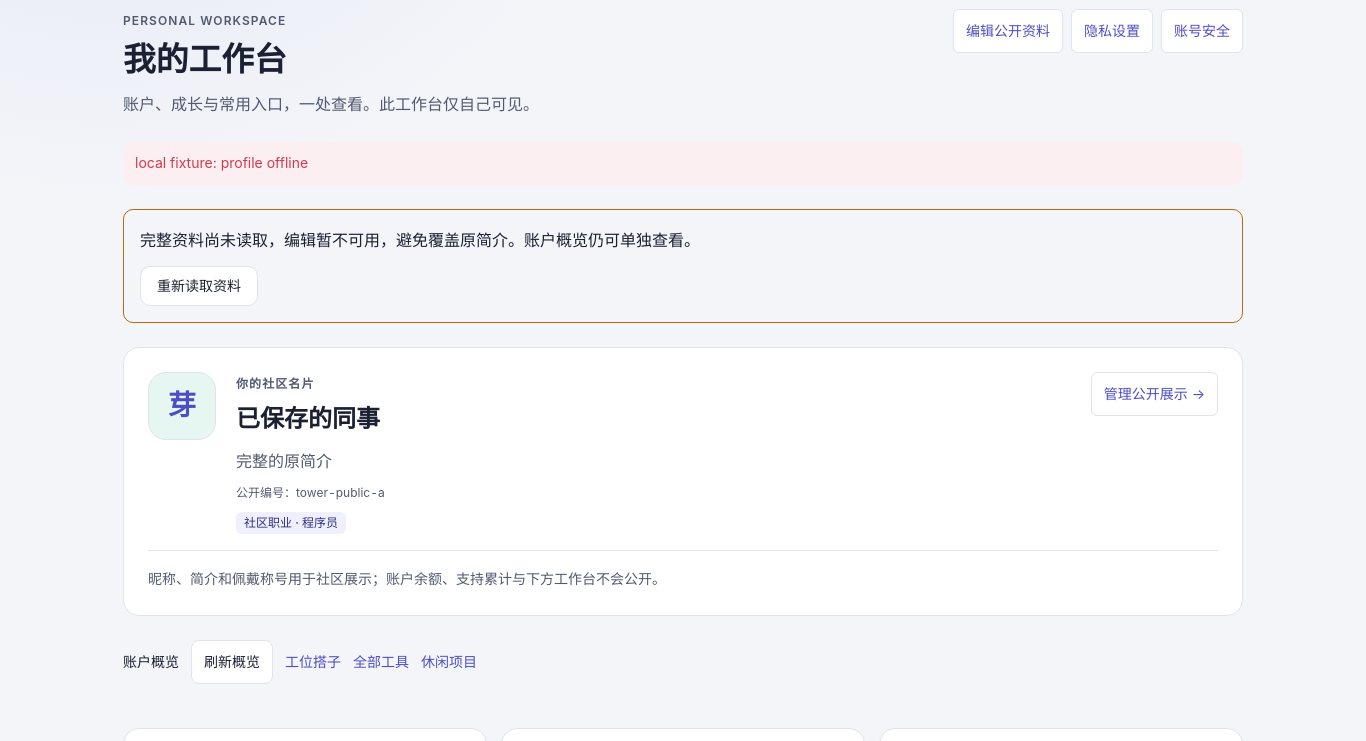
private profile overview and explicit editing › prevents saving until the full profile loads and enables a safe retry instead of clearing the original bio
The image size is (1366, 741).
expect the button "重新读取资料" is shown: met, box [140,266,258,306]
Step 1. Click the button "编辑公开资料" → (1008, 31), box [953,9,1063,53]
(page scrolled)
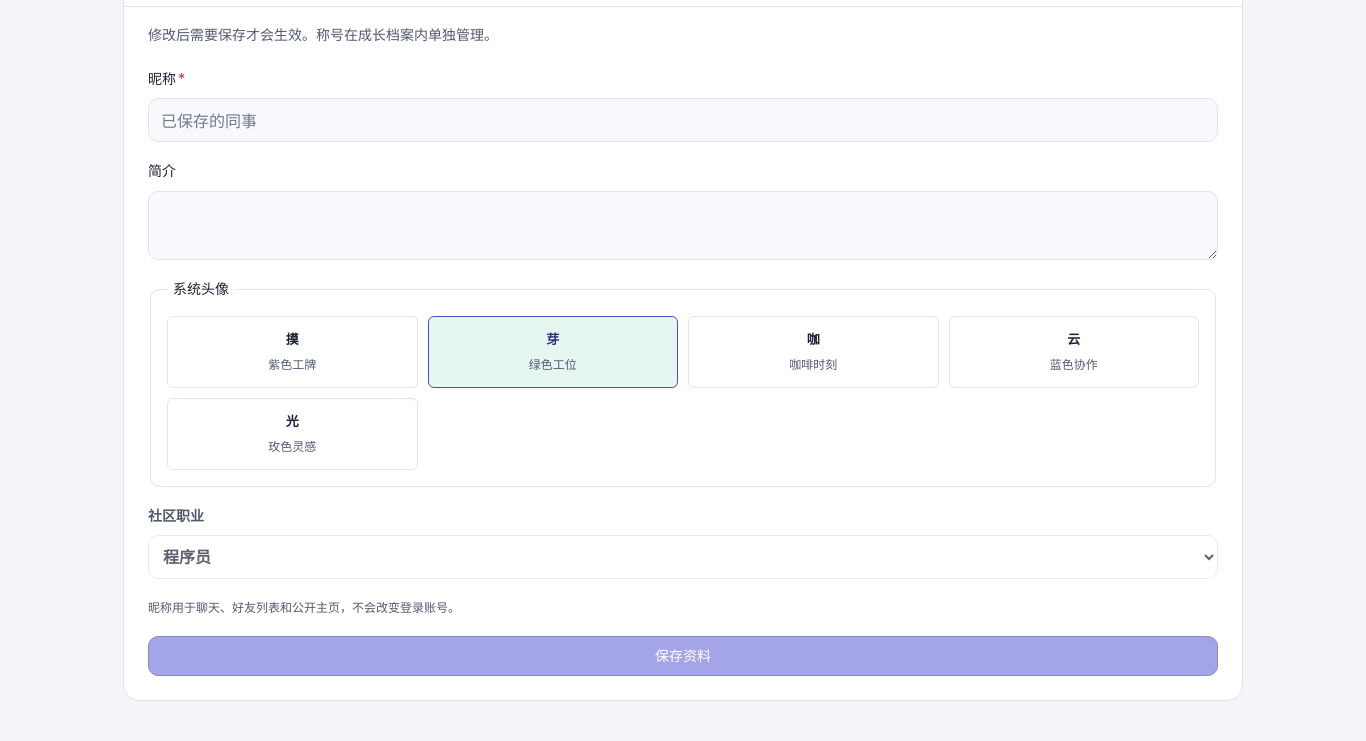
expect the button "保存资料" is disabled: met, box [148,636,1218,676]
Step 2. Submit the form named "保存资料"
(page scrolled)
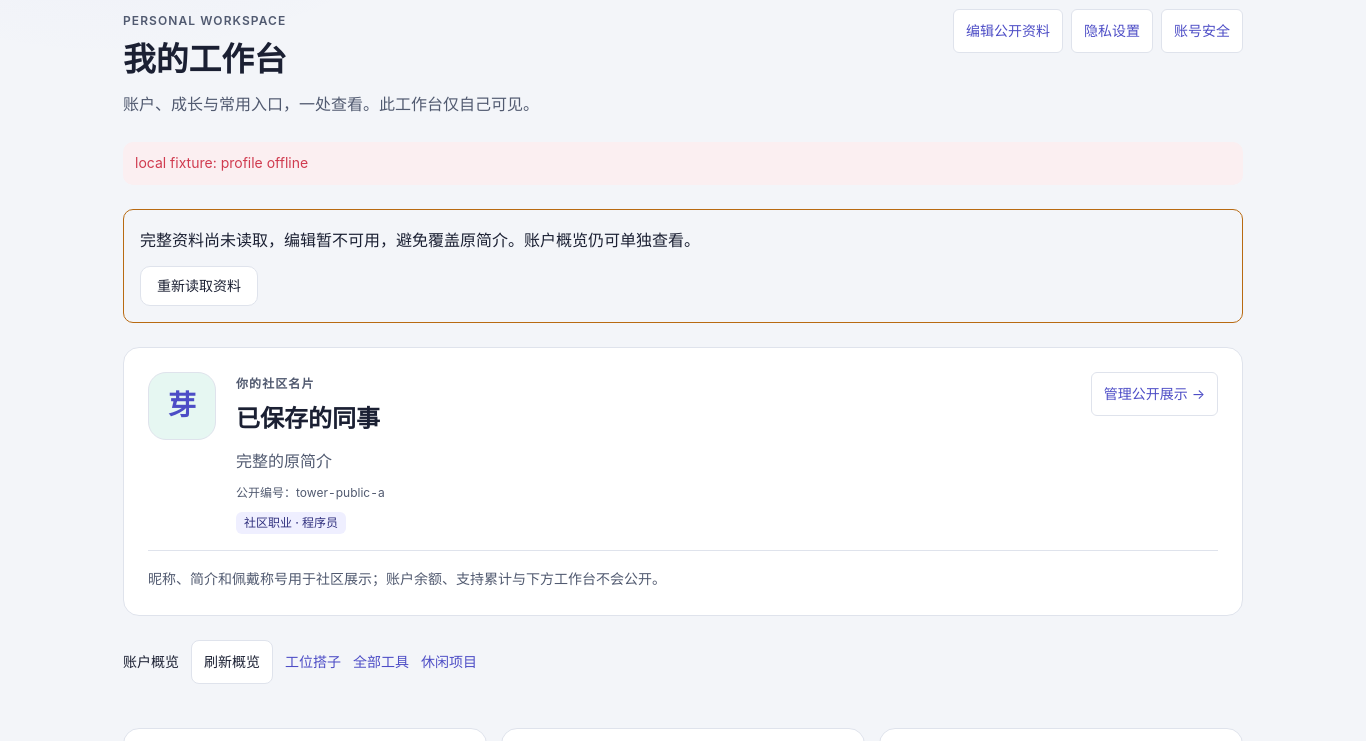
Step 3. Click the button "重新读取资料" → (199, 286), box [140,266,258,306]
(page scrolled)
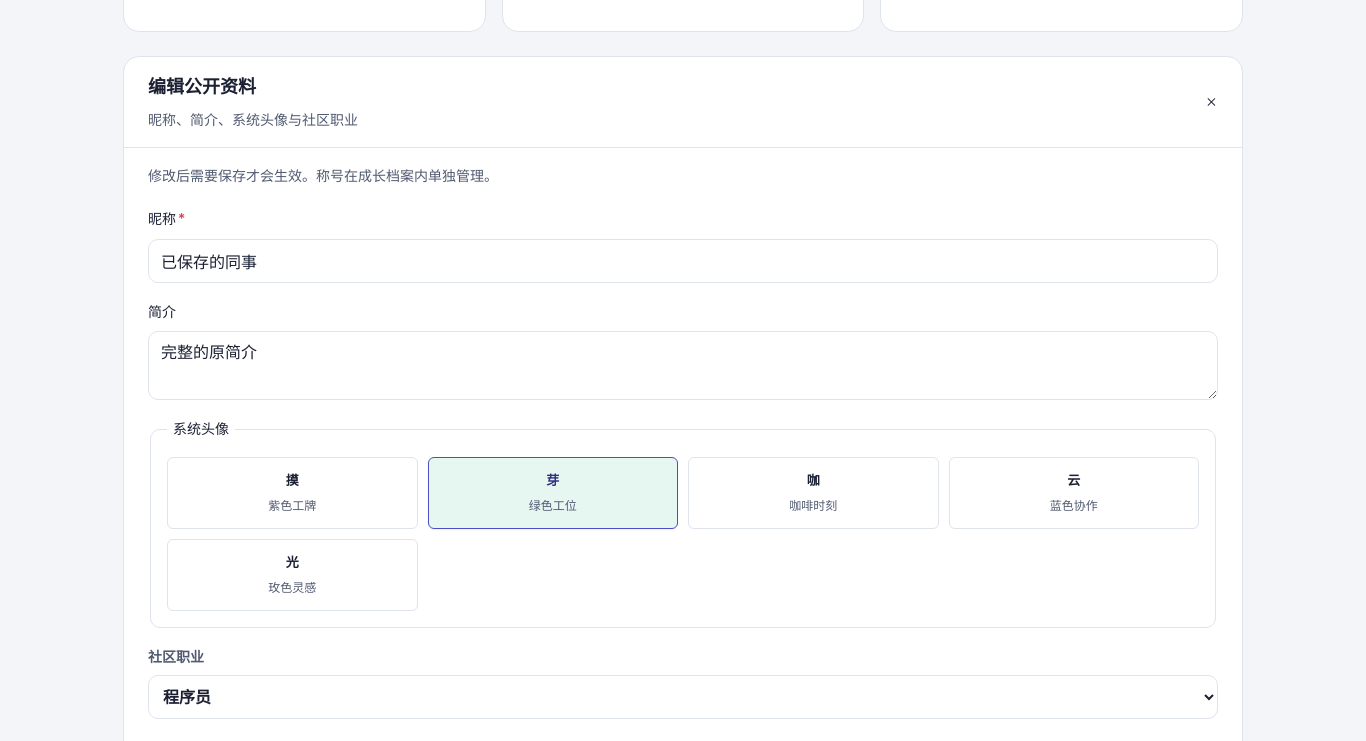
expect the text box labelled "简介" holds "完整的原简介": met, box [148,331,1218,400]
